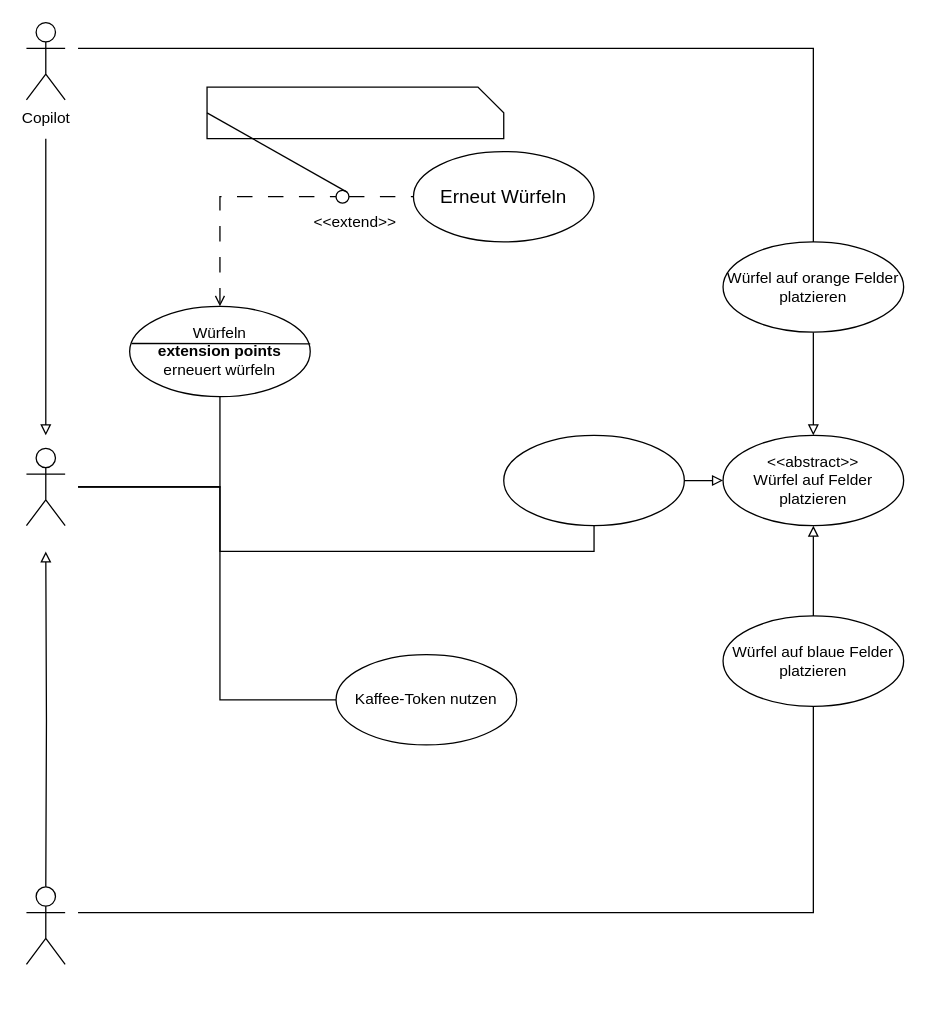
Some shapes in this 926 by 1014 pixel diagram are drawn without their labels. Here are the shapes that lost their labels. From the top down, the box of each, then its label:
(206, 86, 504, 139): <<Vorbendingung>> „Erneut Würfeln"-Tokens vorrätig
(25, 447, 65, 526): Spieler
(502, 434, 684, 526): Würfel auf Kaffeefelder platzieren
(25, 886, 65, 964): Pilot
